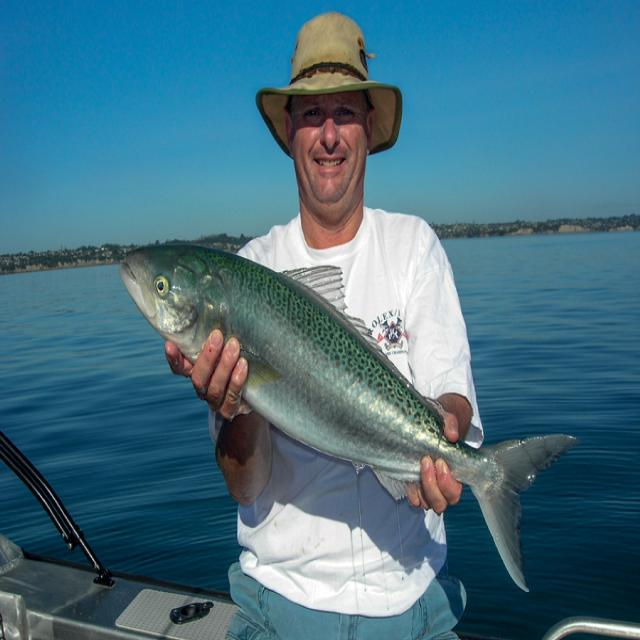Australian Salmon: (105, 227, 582, 601)
